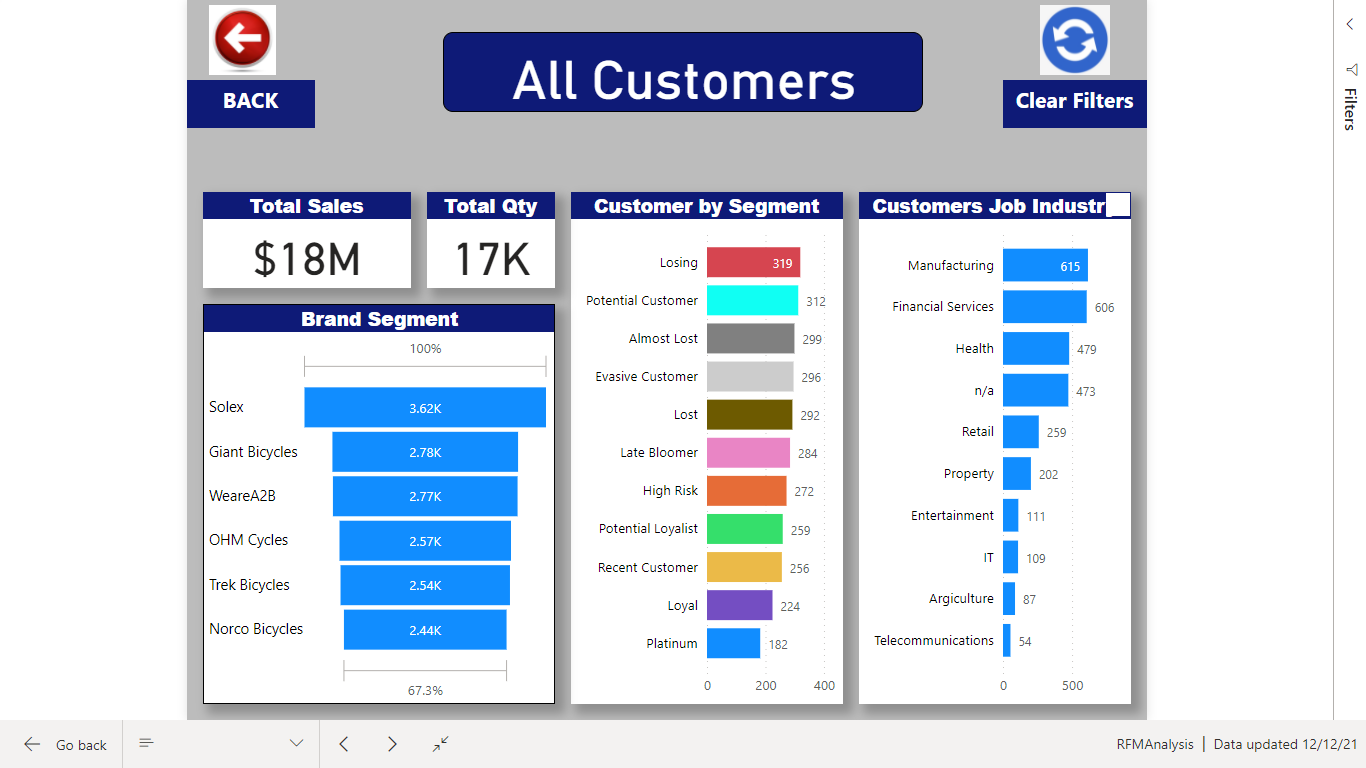

Layout of this report page (visuals, bound fields, positions):
{"tool":"powerbi","page":{"name":"Customer Detail","canvas":[960,720],"ordinal":2},"visuals":[{"type":"clusteredBarChart","title":"Customer by Segment","fields":{"Category":["RFM Table.Customer Segment"],"Y":["CountNonNull(RFM Table.customer_id)"]},"box":[384,192,272,512],"z":0},{"type":"clusteredBarChart","title":"Customers Job Industry","fields":{"Category":["d-CustomerDemographic.job_industry_category"],"Y":["__DAX Measures.Total Customers"]},"box":[672,192,272,512],"z":1000},{"type":"card","title":"Total Sales","fields":{"Values":["__DAX Measures.Total Sales"]},"box":[16,192,208,96],"z":2000},{"type":"card","title":"Total Qty","fields":{"Values":["__DAX Measures.Total Qty"]},"box":[240,192,128,96],"z":3000},{"type":"image","box":[0,0,112,80],"z":4000},{"type":"card","fields":{"Values":["__DAX Measures.Selected Customer"]},"box":[256,32,480,80],"z":5000},{"type":"funnel","title":"Brand Segment","fields":{"Category":["f-Transactions.brand"],"Y":["CountNonNull(f-Transactions.transaction_id)"]},"box":[16,304,352,400],"z":6000},{"type":"image","box":[848,0,80,80],"z":7000},{"type":"textbox","box":[0,80,128,48],"z":8000},{"type":"textbox","box":[816,80,144,48],"z":9000}]}

Visuals, with their boxes on the page's 960x720 design canvas (x1, y1, x2, y2). These are canvas units, not pixel positions in the 1366x768 screenshot, which may show the page scaled, cropped or inside an application window:
"Customer by Segment" clusteredBarChart: [left=384, top=192, right=656, bottom=704]
"Customers Job Industry" clusteredBarChart: [left=672, top=192, right=944, bottom=704]
"Total Sales" card: [left=16, top=192, right=224, bottom=288]
"Total Qty" card: [left=240, top=192, right=368, bottom=288]
image: [left=0, top=0, right=112, bottom=80]
card - __DAX Measures.Selected Customer: [left=256, top=32, right=736, bottom=112]
"Brand Segment" funnel: [left=16, top=304, right=368, bottom=704]
image: [left=848, top=0, right=928, bottom=80]
textbox: [left=0, top=80, right=128, bottom=128]
textbox: [left=816, top=80, right=960, bottom=128]
